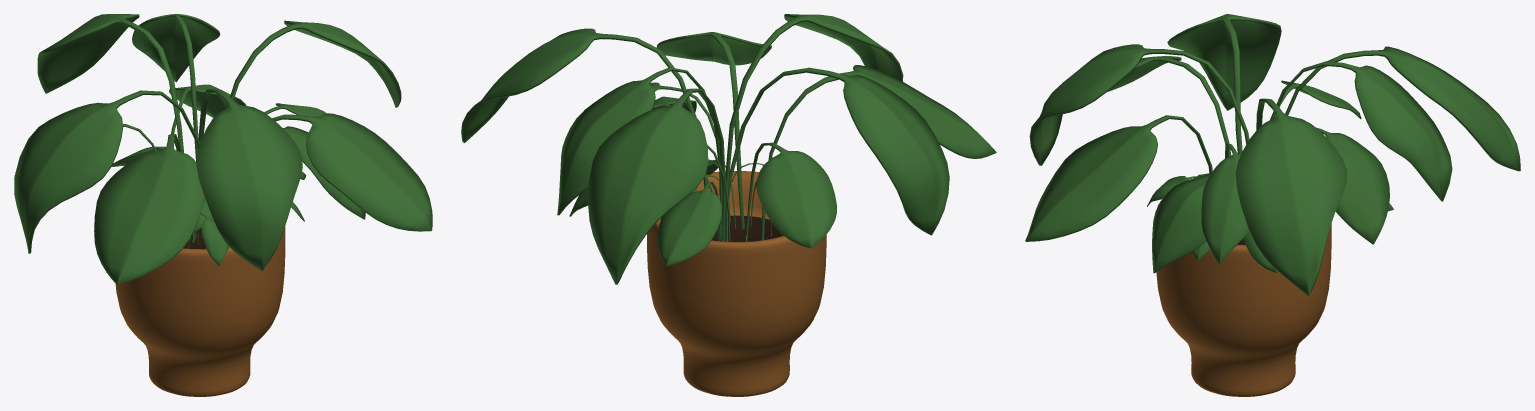
Rendered from maceta.glb.
3 renders of one model, left to right at view 1: azimuth 30°, elevation 25°; view 2: azimuth 150°, elevation 25°; view 3: azimuth 270°, elevation 25°, orthographic. The views are drawn at different scales.
Visible parts, largest first — view 1: Maceta, Círculo.005, Círculo.022, Círculo.027, Círculo, Círculo.010, Círculo.026, Círculo.032, Círculo.031, Círculo.009, Círculo.028, Círculo.003; view 2: Maceta, Círculo.010, Círculo.027, Círculo.008, Círculo.026, Círculo.032, Círculo.022, Círculo.005, Círculo.001, Círculo, Círculo.009; view 3: Maceta, Círculo.032, Círculo, Círculo.026, Círculo.027, Círculo.010, Círculo.005, Círculo.009, Círculo.031, Círculo.003, Círculo.022, Círculo.008 (+1 smaller).
Part boxes in pixels (x1,y1,x2,y2): Maceta: (115, 195, 285, 396); Círculo.005: (191, 89, 302, 270); Círculo.022: (94, 133, 203, 284); Círculo.027: (14, 90, 199, 253); Círculo: (272, 113, 432, 231); Círculo.010: (37, 14, 190, 239); Círculo.026: (132, 14, 220, 161); Círculo.032: (226, 20, 401, 107); Círculo.031: (283, 126, 365, 219); Círculo.009: (169, 84, 246, 133); Círculo.028: (188, 213, 229, 265); Círculo.003: (264, 103, 325, 116); Maceta: (647, 171, 826, 396); Círculo.010: (588, 88, 725, 284); Círculo.027: (717, 67, 949, 240); Círculo.008: (745, 142, 836, 248); Círculo.026: (557, 67, 722, 225); Círculo.032: (461, 28, 707, 187); Círculo.022: (761, 65, 996, 240); Círculo.005: (725, 14, 903, 241); Círculo.001: (657, 181, 721, 266); Círculo: (656, 32, 771, 228); Círculo.009: (569, 144, 730, 241); Maceta: (1156, 201, 1331, 396); Círculo.032: (1235, 98, 1346, 295); Círculo: (1025, 115, 1212, 241); Círculo.026: (1270, 61, 1452, 201); Círculo.027: (1167, 14, 1281, 154); Círculo.010: (1285, 46, 1520, 171); Círculo.005: (1029, 44, 1249, 165); Círculo.009: (1316, 127, 1389, 244); Círculo.031: (1152, 174, 1210, 273); Círculo.003: (1201, 143, 1249, 264); Círculo.022: (1107, 56, 1231, 156); Círculo.008: (1274, 80, 1361, 119).
Bounding box in the file's own units: 1.34 × 0.9846 × 1.35.
